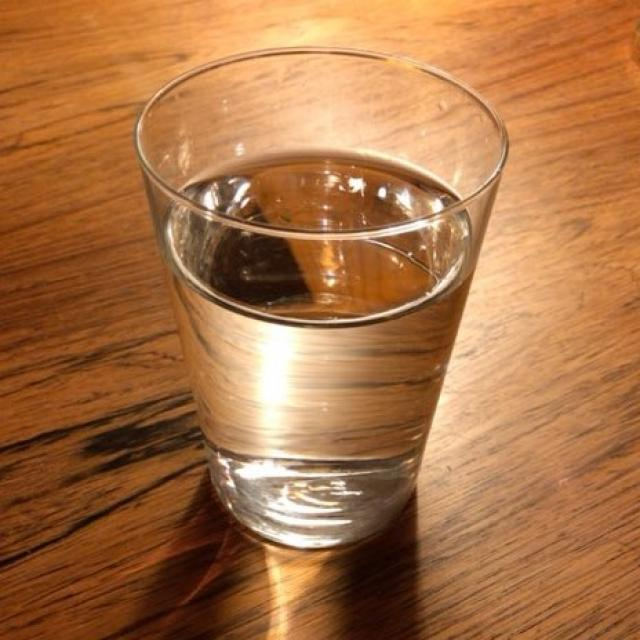water: (164, 171, 482, 533)
